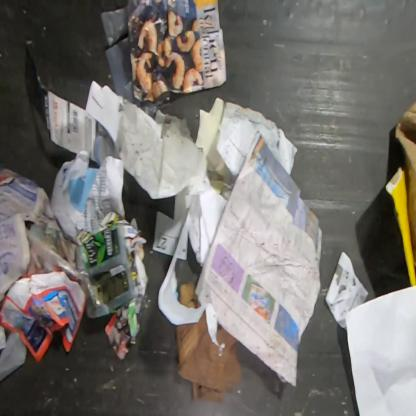cardboard: (24, 40, 98, 164), (0, 271, 87, 365), (176, 309, 242, 401), (385, 101, 415, 287), (179, 281, 201, 309)
soft_plastic: (76, 227, 135, 319)
